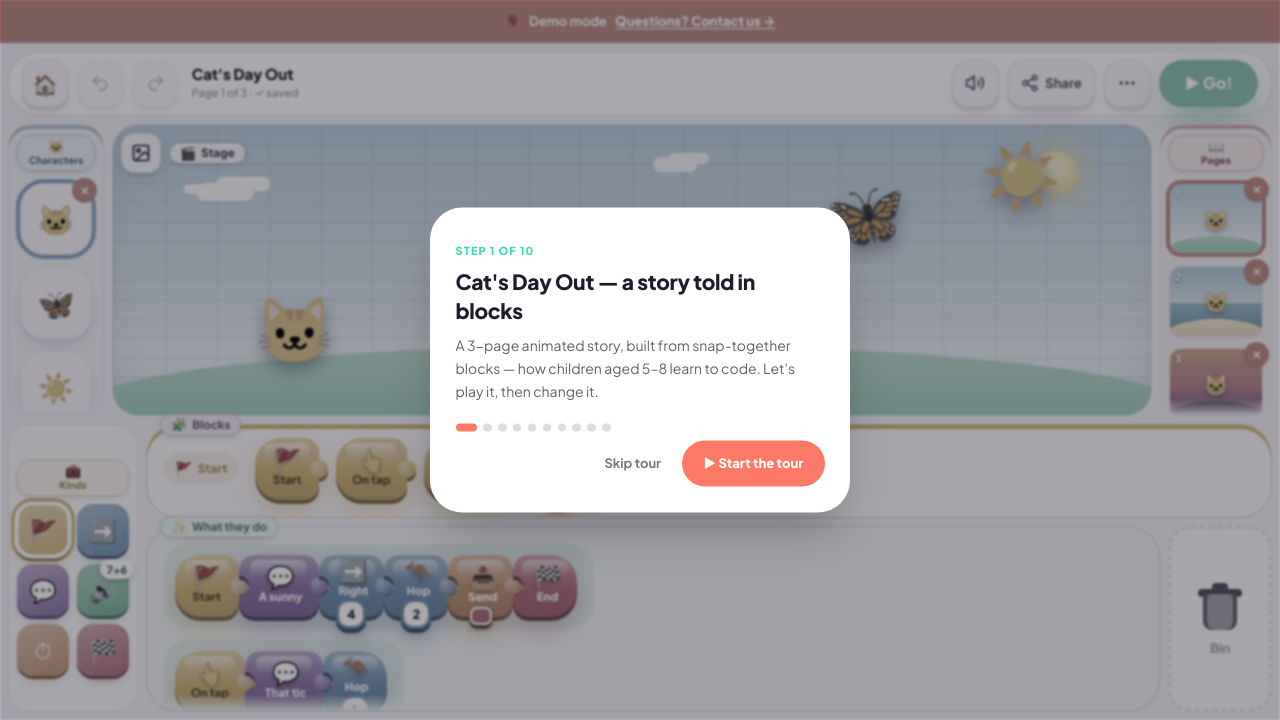
Test: TryBlocksPage › the tour steps through to free explore and can be skipped
Click the button with test id "tour-next".
click(753, 464)  # box [682,440,824,487]
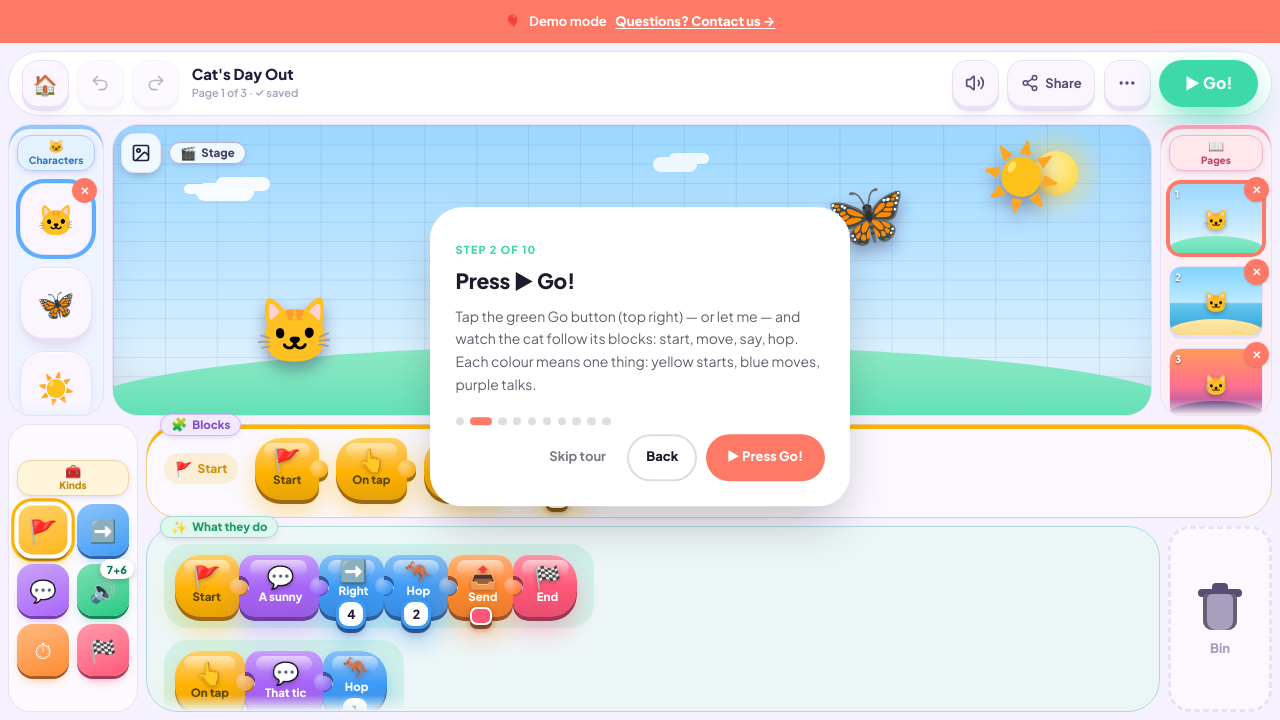
Expected: the heading with test id "tour-title" reads "Press ▶ Go!", [456,268,575,294]
Click the button with test id "tour-skip".
click(578, 458)  # box [537,434,619,481]
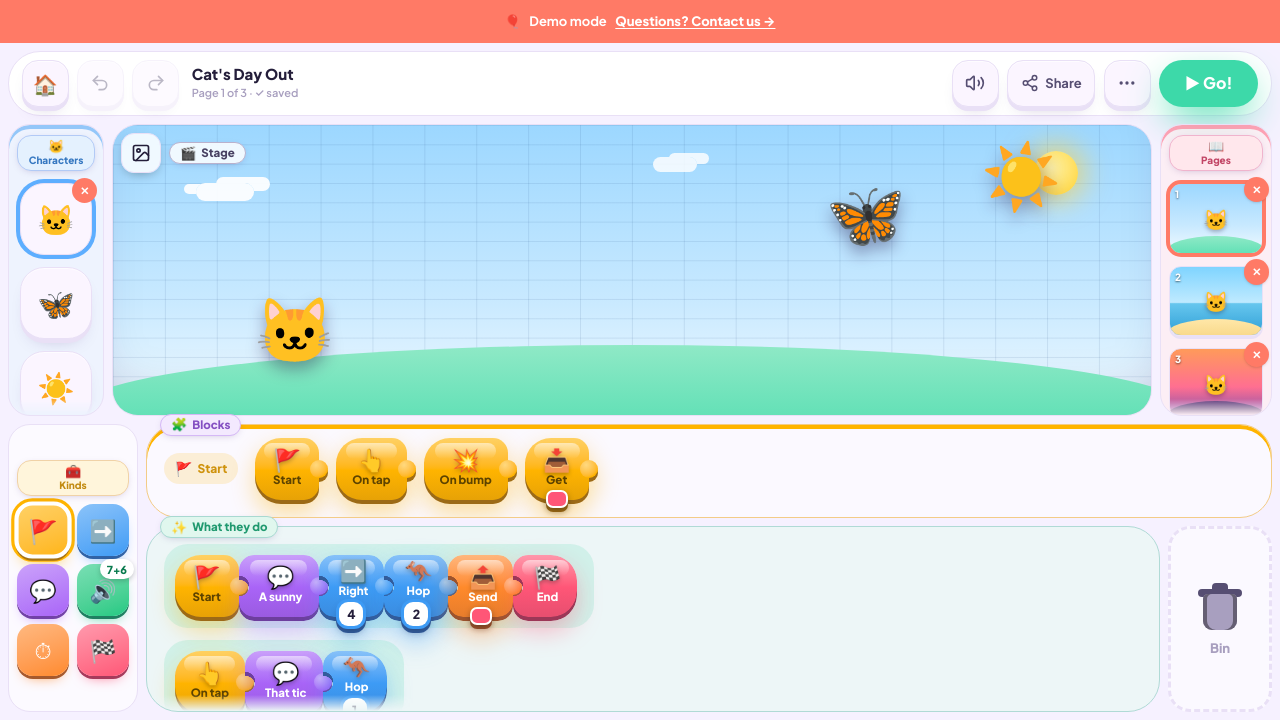
Expected: the button with test id "go-button" is enabled, [1159,60,1258,107]
Expected: the element with test id "demo-tour" is gone
